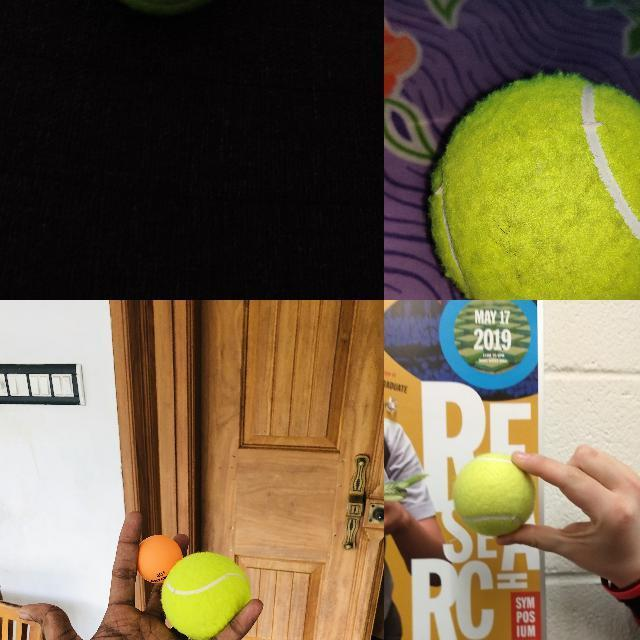tennis-ball: (428, 72, 639, 299), (452, 452, 536, 538), (162, 553, 231, 624)
